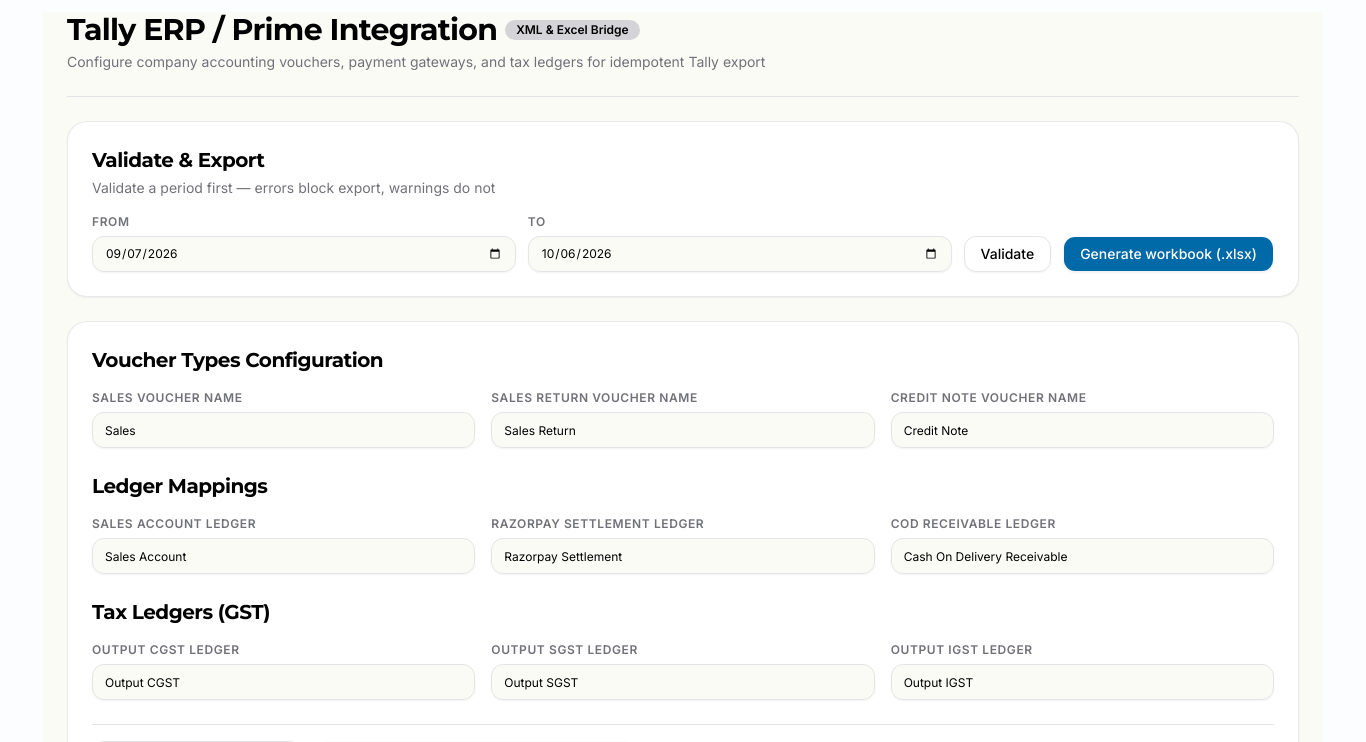
validation envelope error shows alert with retry
The image size is (1366, 742).
Click the button "Validate": (1007, 254) [964, 236, 1051, 272]
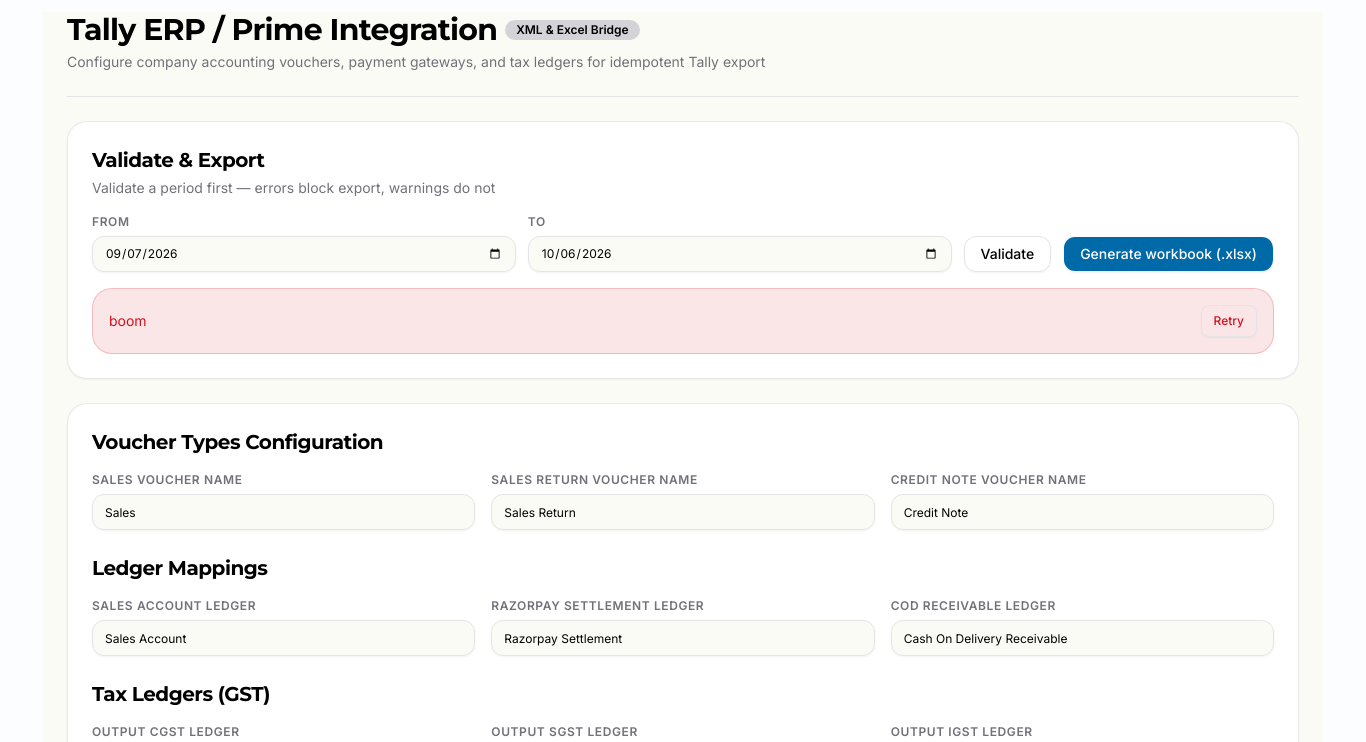
Result: the message "boom Retry" is shown at [92, 288, 1274, 354]
Result: the button "Retry" is shown at [1200, 305, 1257, 337]
